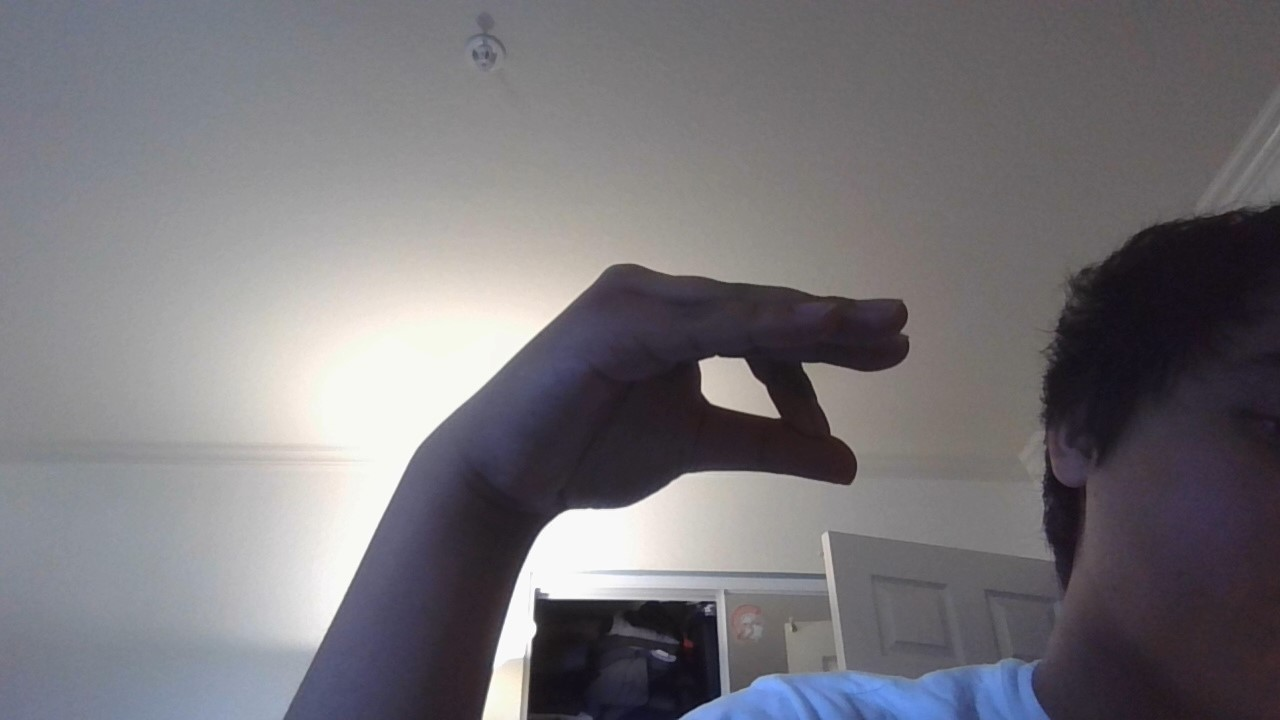z: (387, 222, 944, 619)
